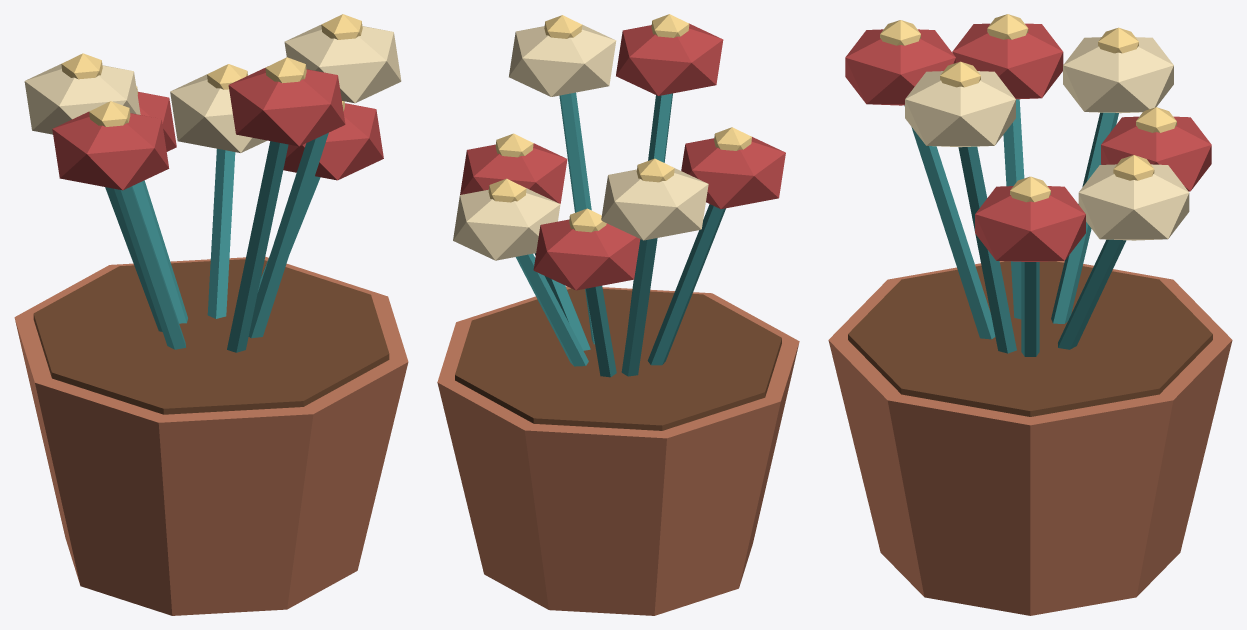
File: flowers.glb
3 renders of one model, left to right at view 1: azimuth 30°, elevation 25°; view 2: azimuth 150°, elevation 25°; view 3: azimuth 270°, elevation 25°, orthographic. The views are drawn at different scales.
Parts seen in each view (by area): view 1: Terracotta pot, Pot soil, Flower petals.004, Flower petals.002, Flower petals.005, Flower petals.001, Flower stem.002, Flower petals.003, Flower stem.005, Flower petals, Flower stem.003, Flower stem.004 (+8 smaller); view 2: Terracotta pot, Pot soil, Flower petals.002, Flower petals.005, Flower petals.001, Flower petals.006, Flower petals.003, Flower petals.004, Flower petals, Flower stem.004, Flower stem.001, Flower stem.005 (+11 smaller); view 3: Terracotta pot, Pot soil, Flower petals.005, Flower petals, Flower petals.001, Flower petals.003, Flower petals.002, Flower petals.004, Flower petals.006, Flower stem.002, Flower stem.005, Flower stem.001 (+10 smaller).
Part boxes in pixels (box(x1,y1,x2,y2)): Terracotta pot: box(14, 256, 408, 615); Pot soil: box(33, 259, 389, 414); Flower petals.004: box(52, 111, 169, 190); Flower petals.002: box(228, 66, 345, 146); Flower petals.005: box(284, 25, 401, 103); Flower petals.001: box(24, 64, 140, 134); Flower stem.002: box(227, 141, 288, 352); Flower petals.003: box(170, 74, 266, 152); Flower stem.005: box(248, 132, 328, 338); Flower petals: box(283, 103, 383, 180); Flower stem.003: box(207, 148, 235, 318); Flower stem.004: box(114, 186, 185, 349); Terracotta pot: box(437, 286, 799, 615); Pot soil: box(455, 288, 781, 430); Flower petals.002: box(616, 23, 723, 95); Flower petals.005: box(509, 24, 616, 96); Flower petals.001: box(601, 168, 708, 240); Flower petals.006: box(533, 219, 640, 290); Flower petals.003: box(453, 188, 560, 260); Flower petals.004: box(681, 137, 785, 209); Flower petals: box(460, 143, 567, 203); Flower stem.004: box(647, 204, 725, 365); Flower stem.001: box(621, 238, 657, 376); Flower stem.005: box(559, 92, 594, 344); Terracotta pot: box(828, 261, 1232, 615); Pot soil: box(848, 261, 1212, 416); Flower petals.005: box(905, 71, 1015, 147); Flower petals: box(975, 186, 1085, 261); Flower petals.001: box(1063, 37, 1173, 113); Flower petals.003: box(1078, 164, 1189, 240); Flower petals.002: box(845, 29, 955, 105); Flower petals.004: box(952, 23, 1063, 99); Flower petals.006: box(1101, 116, 1211, 191); Flower stem.002: box(904, 105, 995, 339); Flower stem.005: box(958, 146, 1016, 353); Flower stem.001: box(1051, 112, 1118, 323).
Bounding box in the file's own units: 0.62 × 0.91 × 0.62.
